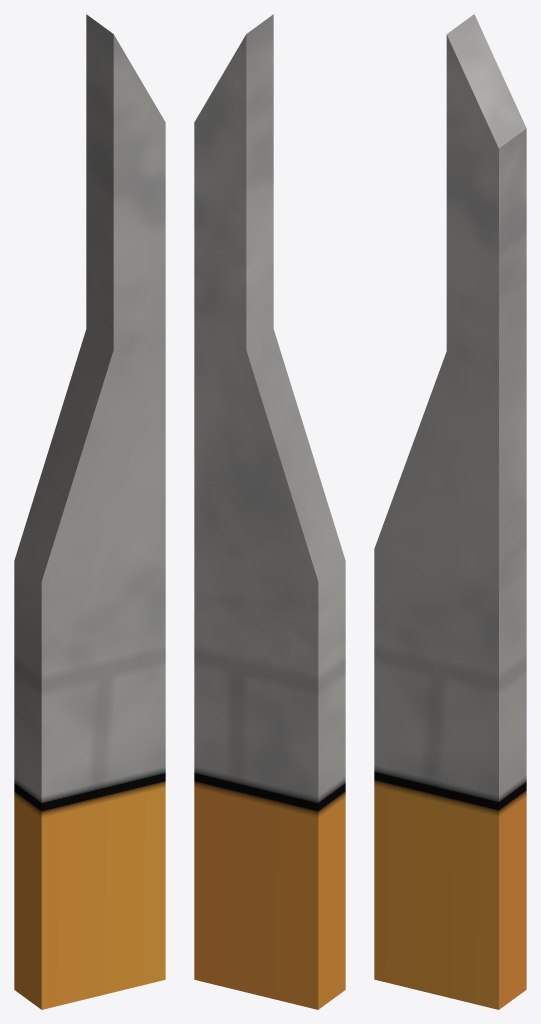
The model's file is antenna_1.fbx.
The picture shows the model from 3 angles, left to right: view 1: azimuth 30°, elevation 25°; view 2: azimuth 150°, elevation 25°; view 3: azimuth 330°, elevation 25°; orthographic projection.
Parts seen in each view (by area): view 1: antenna_1; view 2: antenna_1; view 3: antenna_1.
Part boxes in pixels (<box>): antenna_1: <box>14,14,165,1009</box>; antenna_1: <box>194,14,345,1009</box>; antenna_1: <box>374,14,526,1009</box>.
Size of the model in its own units: 3.08 by 22.78 by 1.19.
